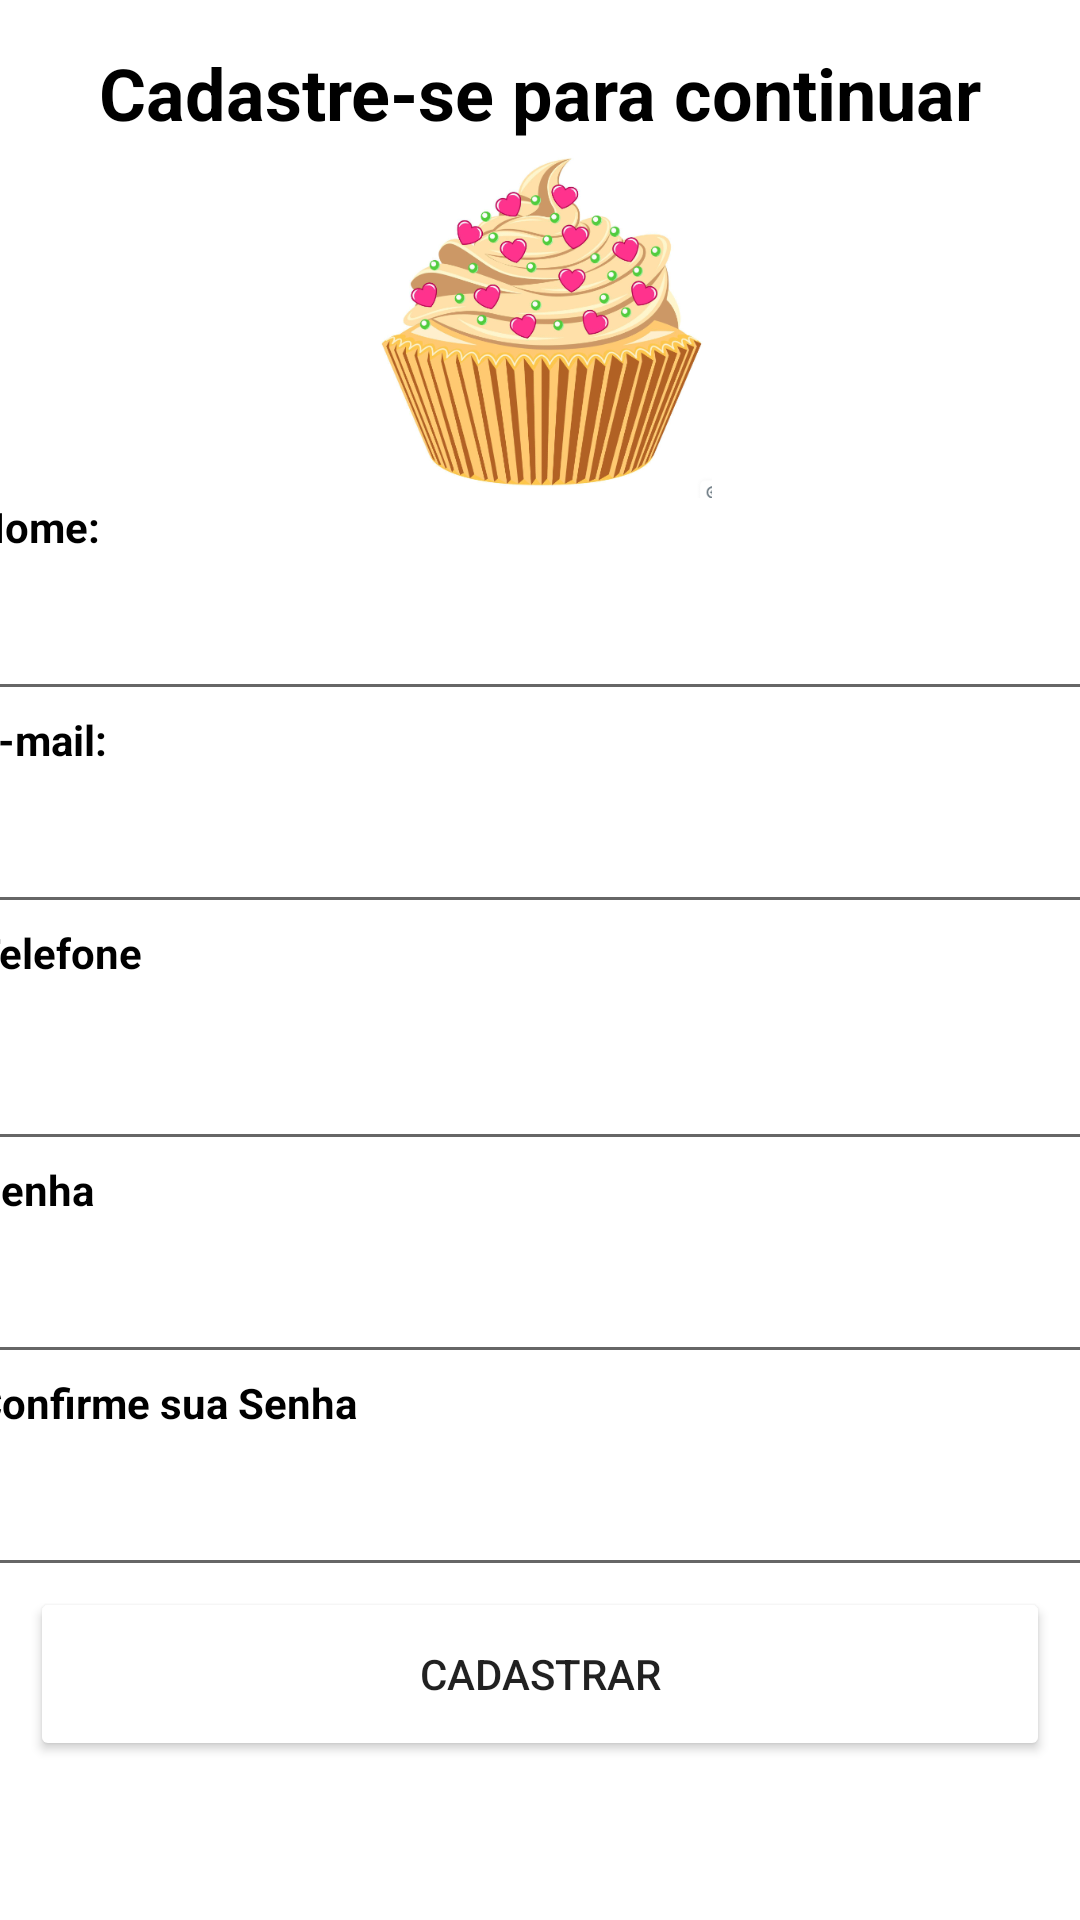

Screen size 1080px×1920px. Icon name, then its box in pixels as [x1,y1,x2,y2]:
bolonovo: [382,158,712,498]
